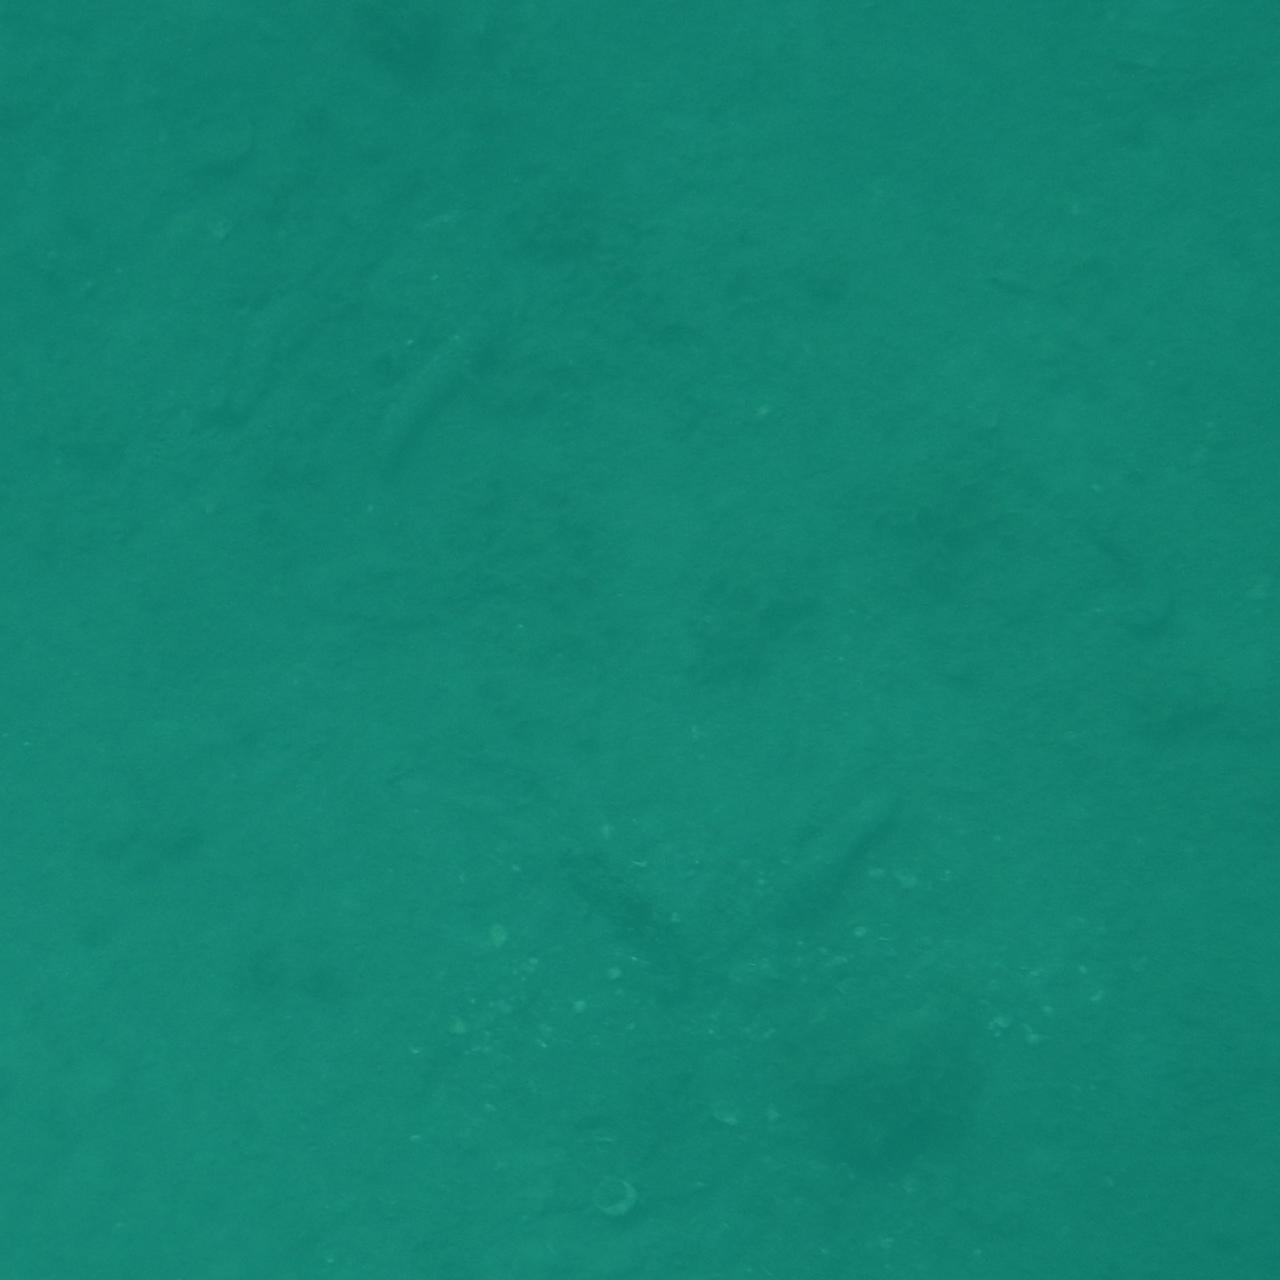Holothuria tubulosa: (726, 764, 933, 1009), (338, 282, 564, 503)
